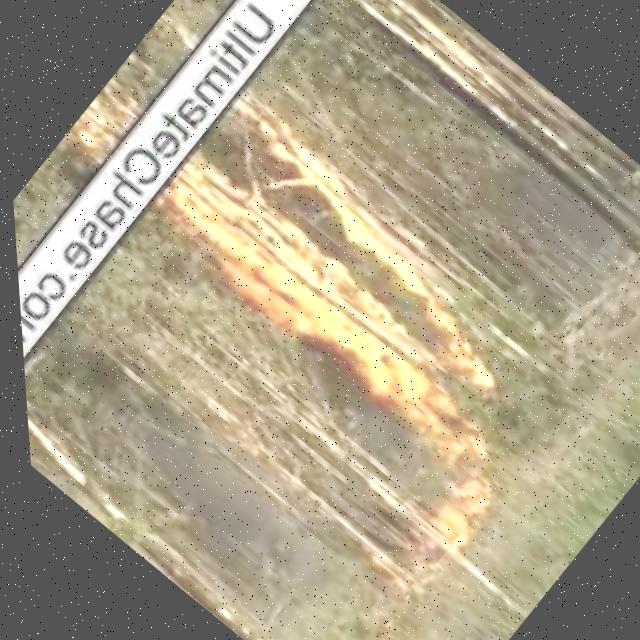Fire: (122, 84, 539, 466), (381, 418, 538, 572), (60, 76, 146, 162)
